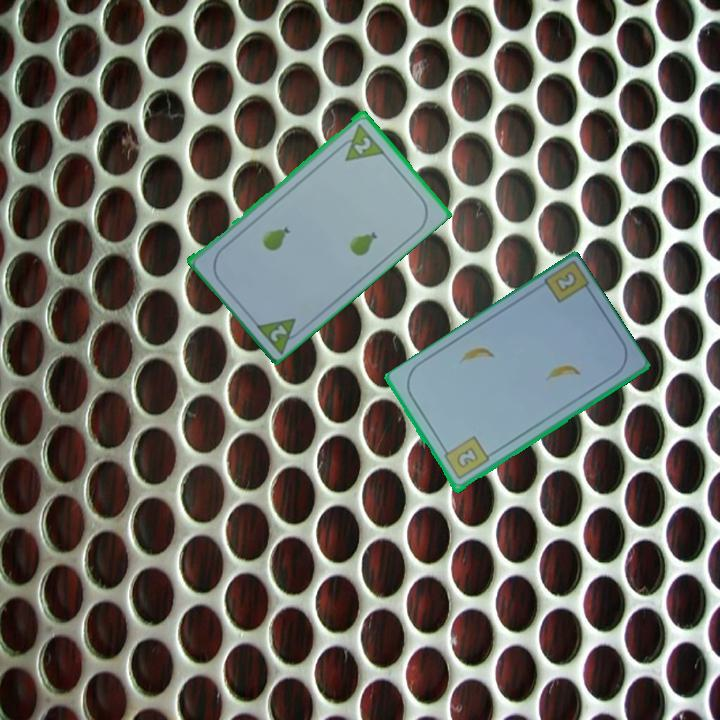2b: (439, 433, 492, 483), (554, 270, 578, 293)
2p: (333, 119, 386, 164), (266, 321, 290, 344)
